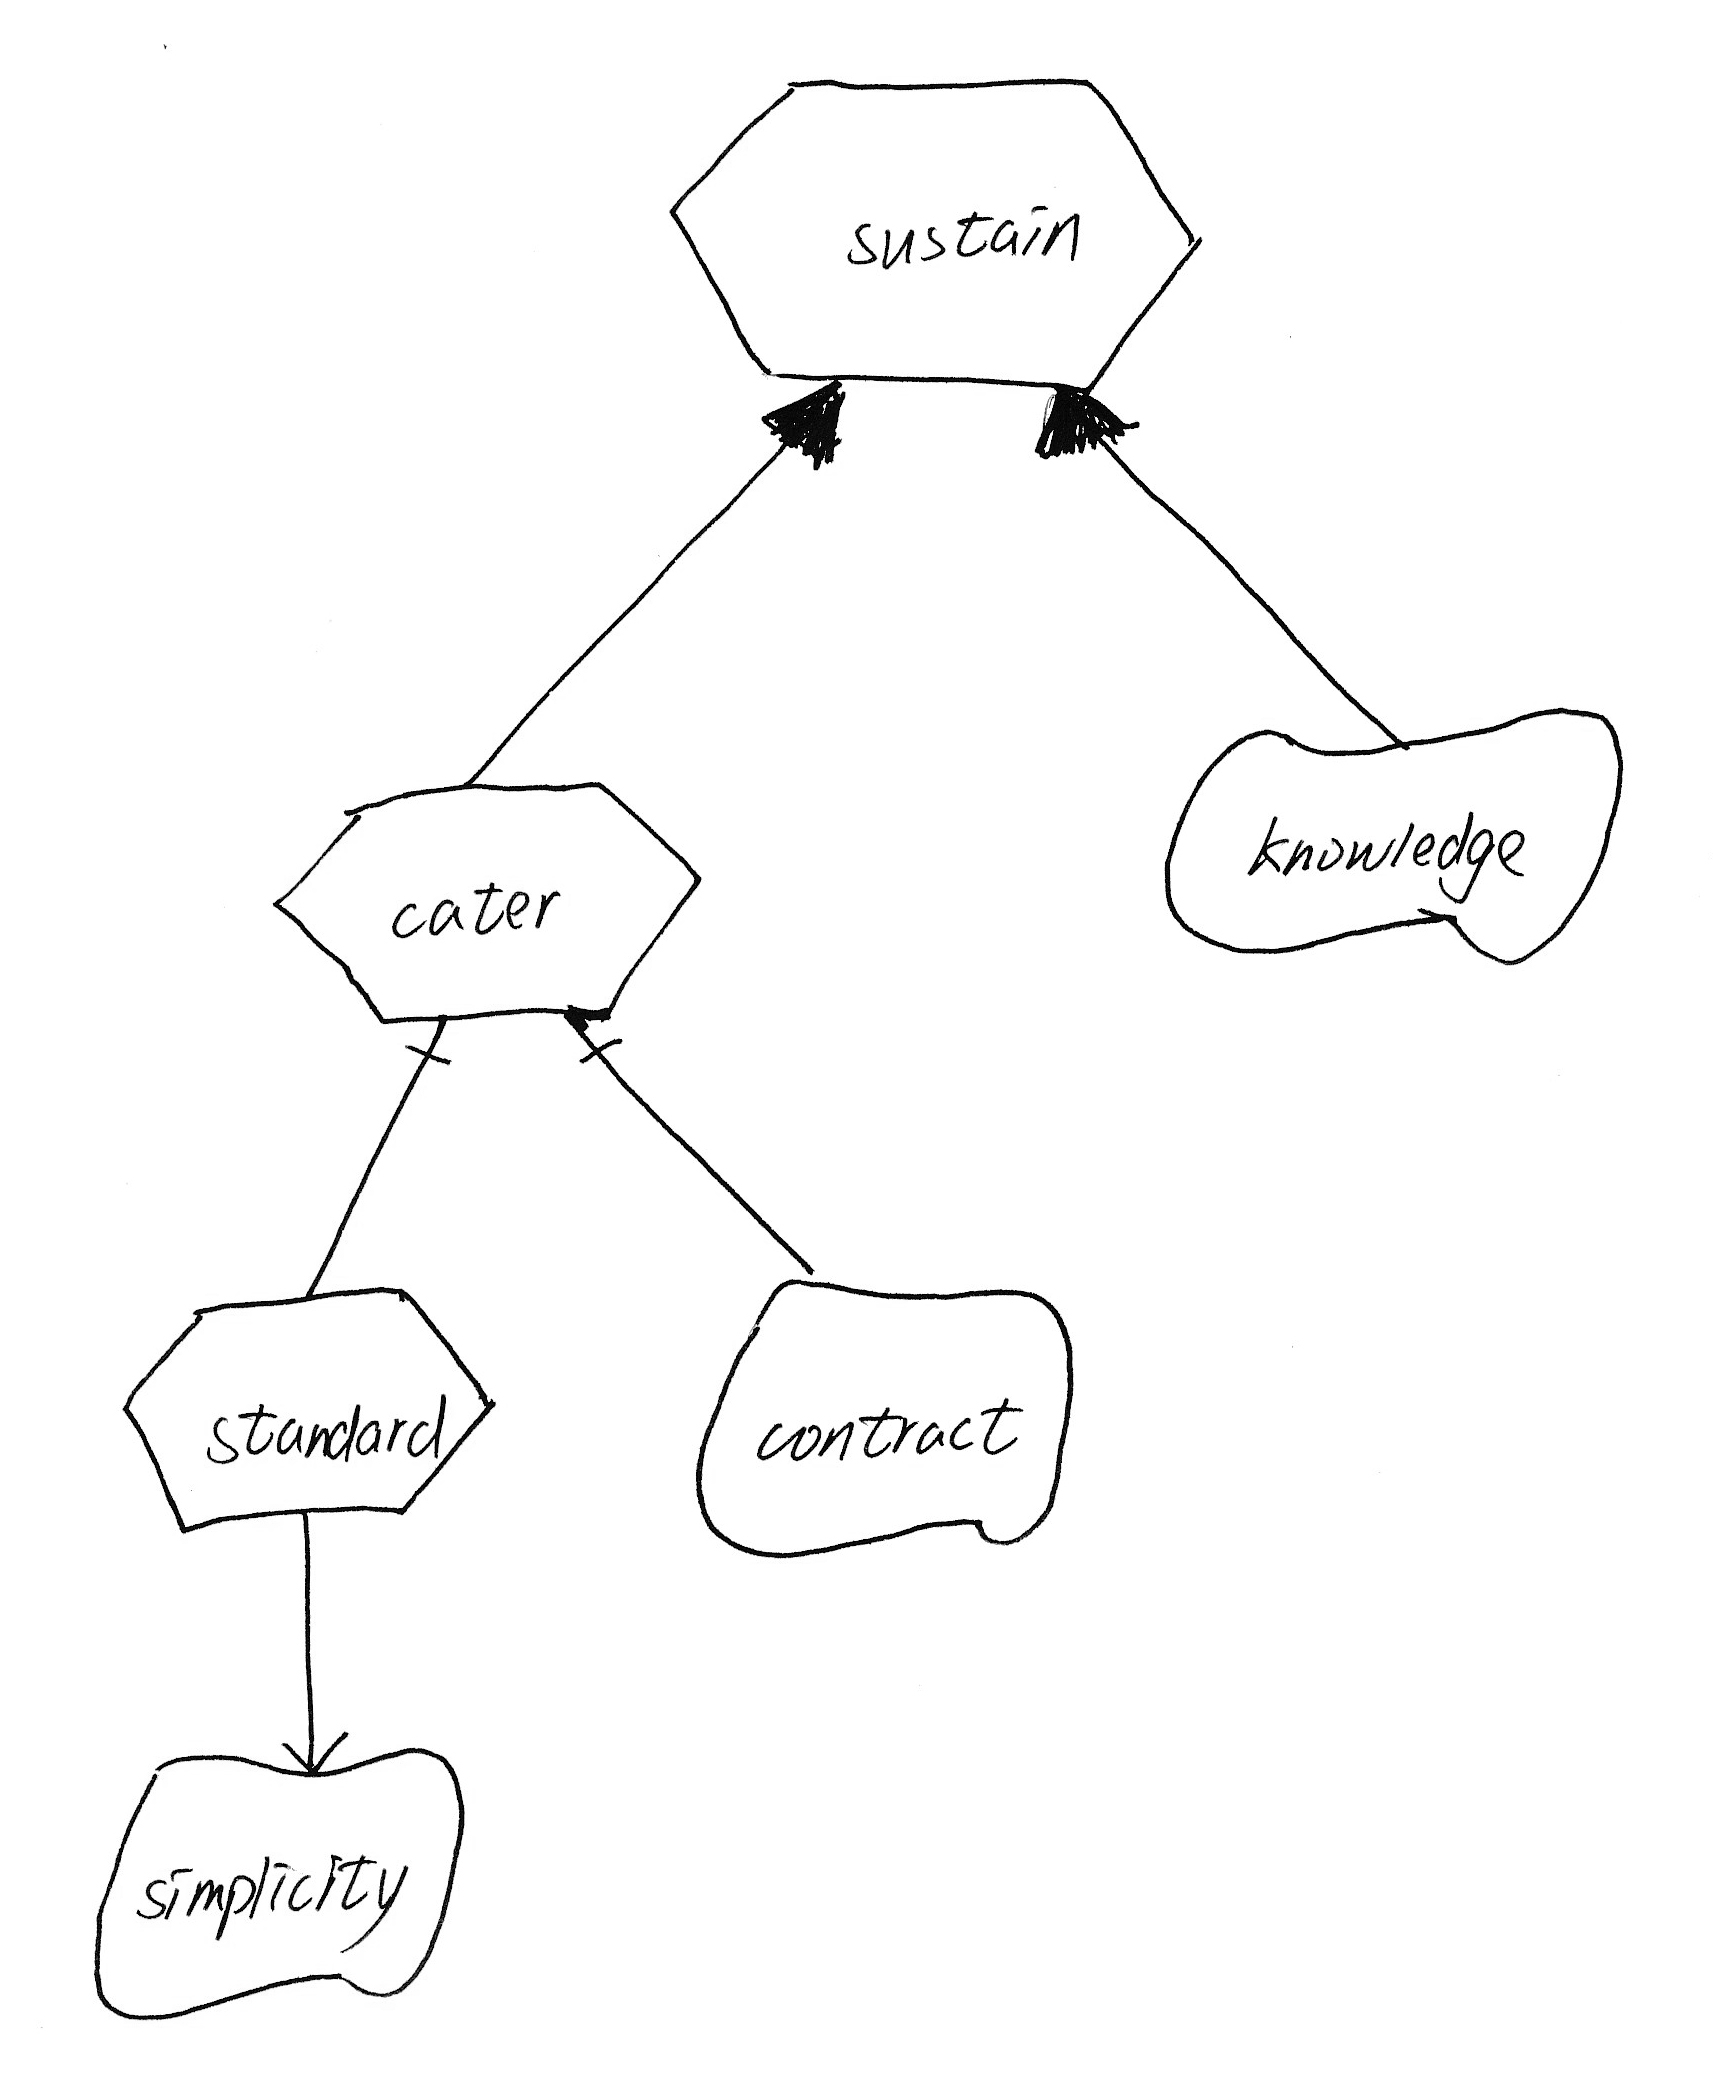and: (538, 994, 638, 1085), (379, 1002, 475, 1084)
arrow: (270, 1709, 366, 1787)
or: (1023, 368, 1143, 472), (752, 366, 859, 479)
quality: (1141, 674, 1639, 985), (674, 1258, 1098, 1575), (73, 1728, 487, 2040)
task: (646, 54, 1220, 420), (256, 760, 719, 1042), (99, 1265, 519, 1549)
